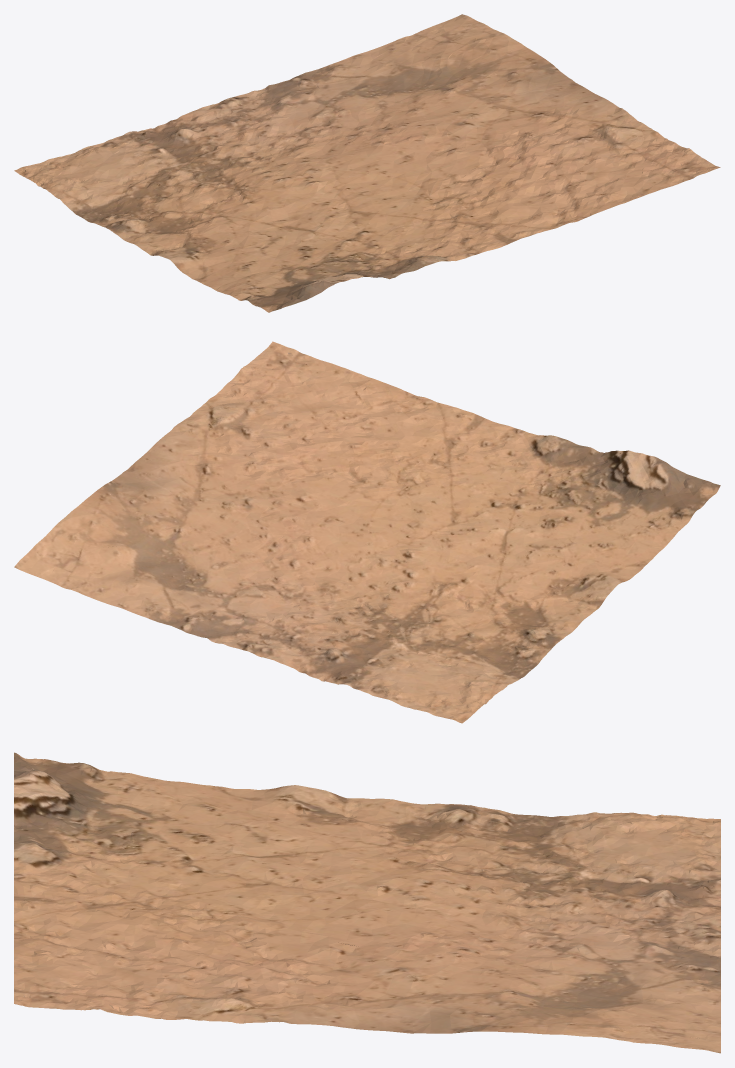
3 views of the same model, one above another, from view 1: azimuth 30°, elevation 25°; view 2: azimuth 150°, elevation 25°; view 3: azimuth 270°, elevation 25° (orthographic). The views are drawn at different scales.
Size of the model in its own units: 1.04 by 0.1863 by 1.04.
Materials: 3 (3 with a texture image).
